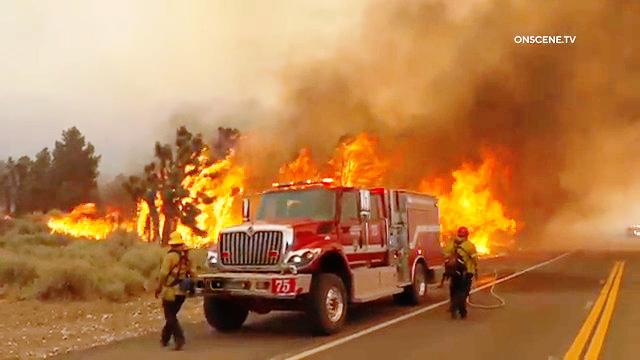fire: (142, 123, 272, 253), (421, 150, 517, 240), (278, 116, 396, 187), (43, 197, 136, 243)
smoke: (439, 49, 603, 148)
